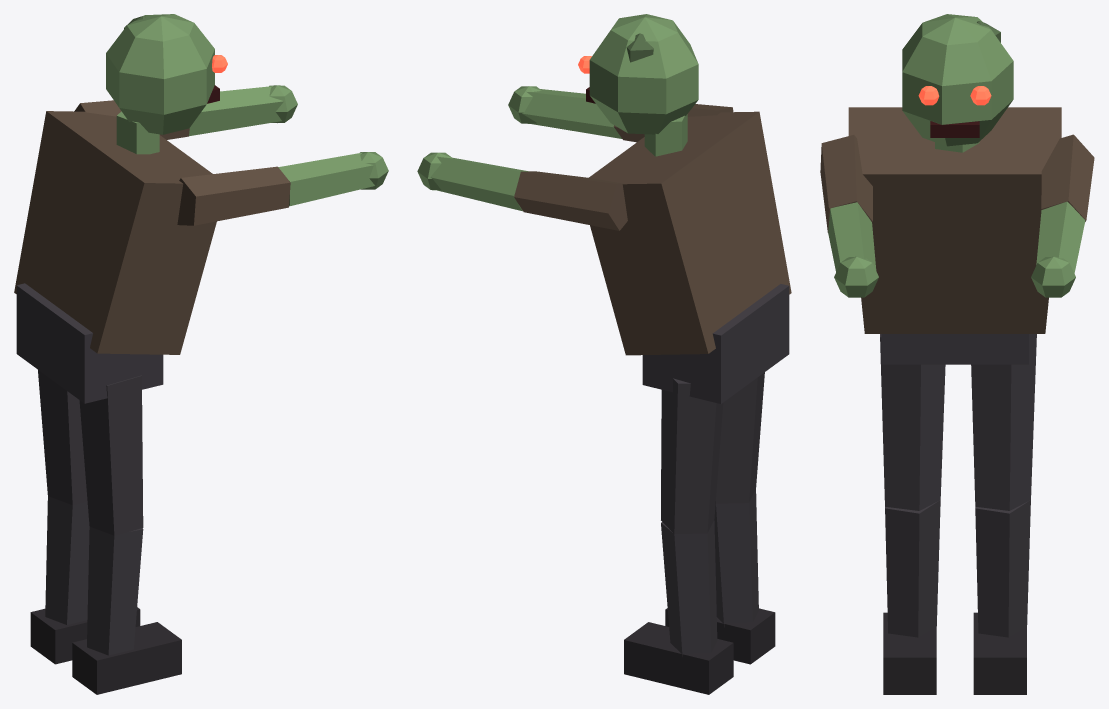
Rendered from walker.glb.
3 renders of one model, left to right at view 1: azimuth 30°, elevation 25°; view 2: azimuth 150°, elevation 25°; view 3: azimuth 270°, elevation 25°, orthographic. The views are drawn at different scales.
Parts seen in each view (by area): view 1: body, leg_r, leg_l, head, arm_r, arm_l; view 2: body, leg_l, leg_r, head, arm_l, arm_r; view 3: body, leg_l, leg_r, head, arm_l, arm_r.
Boxes of the visible parts, box(x1,y1,x2,y2) form: body: box(14, 111, 216, 403); leg_r: box(72, 375, 181, 694); leg_l: box(30, 370, 140, 664); head: box(106, 14, 227, 134); arm_r: box(177, 152, 388, 225); arm_l: box(74, 85, 297, 139); body: box(589, 111, 791, 403); leg_l: box(624, 378, 733, 694); leg_r: box(665, 372, 775, 664); head: box(578, 14, 698, 134); arm_l: box(417, 152, 627, 230); arm_r: box(508, 86, 733, 142); body: box(848, 107, 1061, 364); leg_l: box(971, 334, 1036, 694); leg_r: box(880, 334, 945, 694); head: box(902, 14, 1013, 146); arm_l: box(1031, 134, 1094, 297); arm_r: box(820, 135, 878, 297).
Bounding box in the file's own units: 0.8773 × 1.84 × 0.668.
